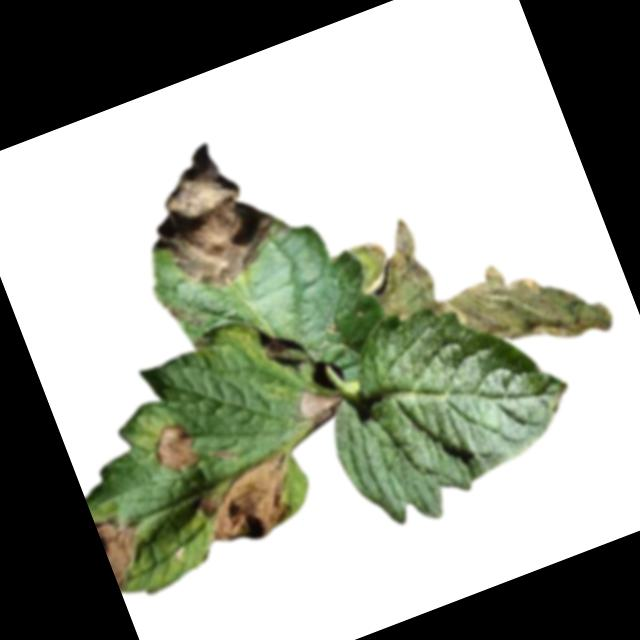Late_blight: (125, 127, 292, 305), (436, 230, 616, 382), (183, 446, 314, 558), (347, 212, 442, 328), (94, 507, 157, 591), (145, 417, 201, 479), (290, 380, 348, 433), (162, 290, 208, 337), (253, 320, 293, 366), (209, 444, 237, 467)
healthy: (295, 264, 596, 546)
